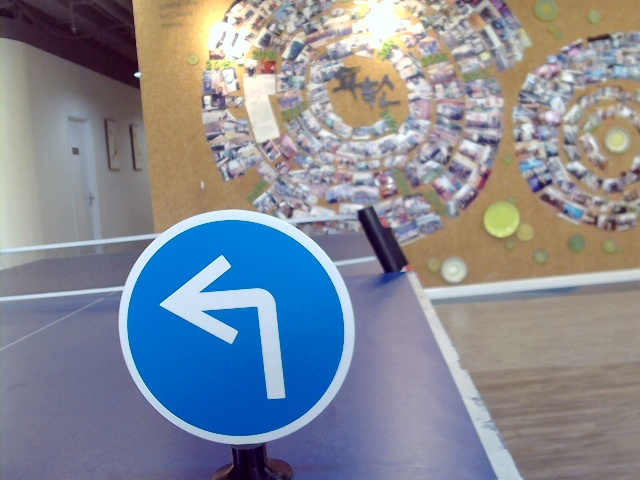turn_left: (162, 254, 297, 410)
